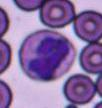N: (20, 30, 76, 81)
